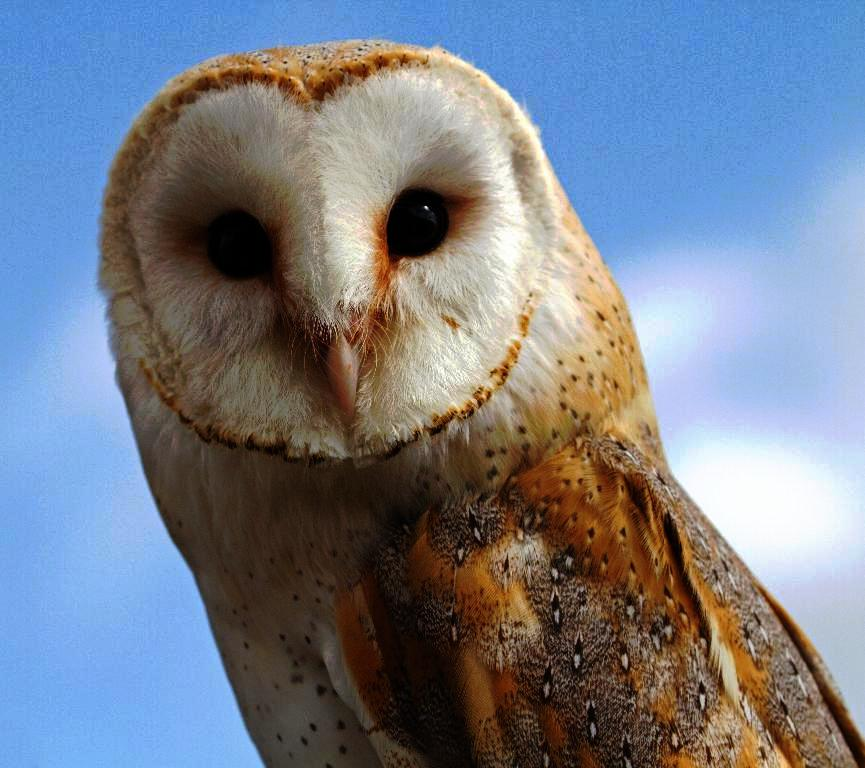Owl: (91, 39, 864, 768)
